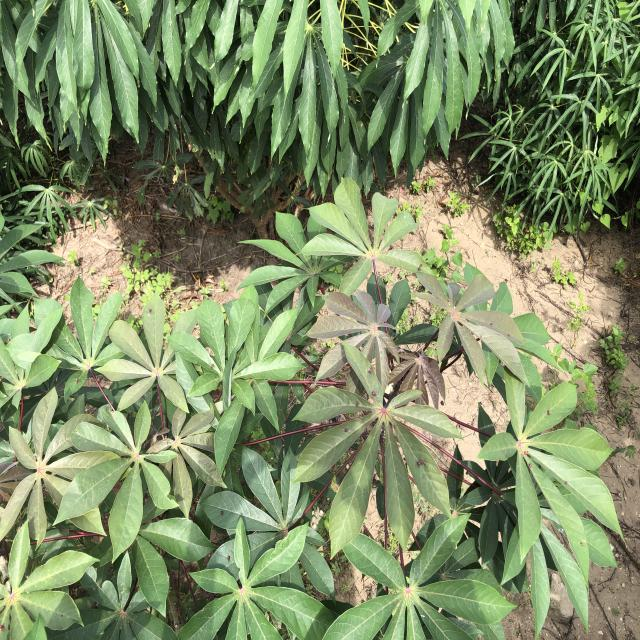Mosca: (516, 437, 540, 475), (352, 396, 368, 418), (414, 451, 428, 472), (539, 407, 561, 420), (367, 386, 384, 402), (224, 549, 239, 567), (218, 501, 228, 524), (208, 357, 220, 376), (340, 423, 350, 440), (145, 302, 155, 317), (367, 361, 375, 376)
